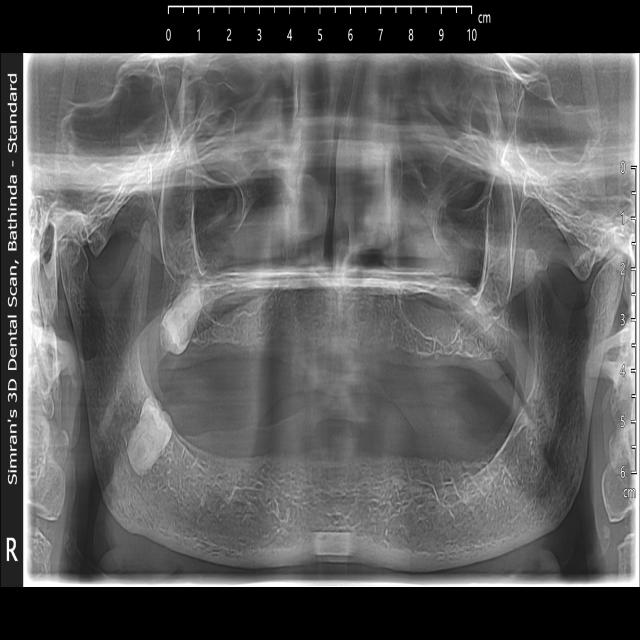Mandibular Canal: (100, 381, 277, 541), (395, 394, 565, 538)
Missing teeth: (185, 400, 474, 459), (201, 343, 476, 390)
impacted tooth: (128, 396, 174, 478), (159, 278, 203, 358)
maxillary sinus: (390, 140, 514, 356), (160, 139, 288, 324)
